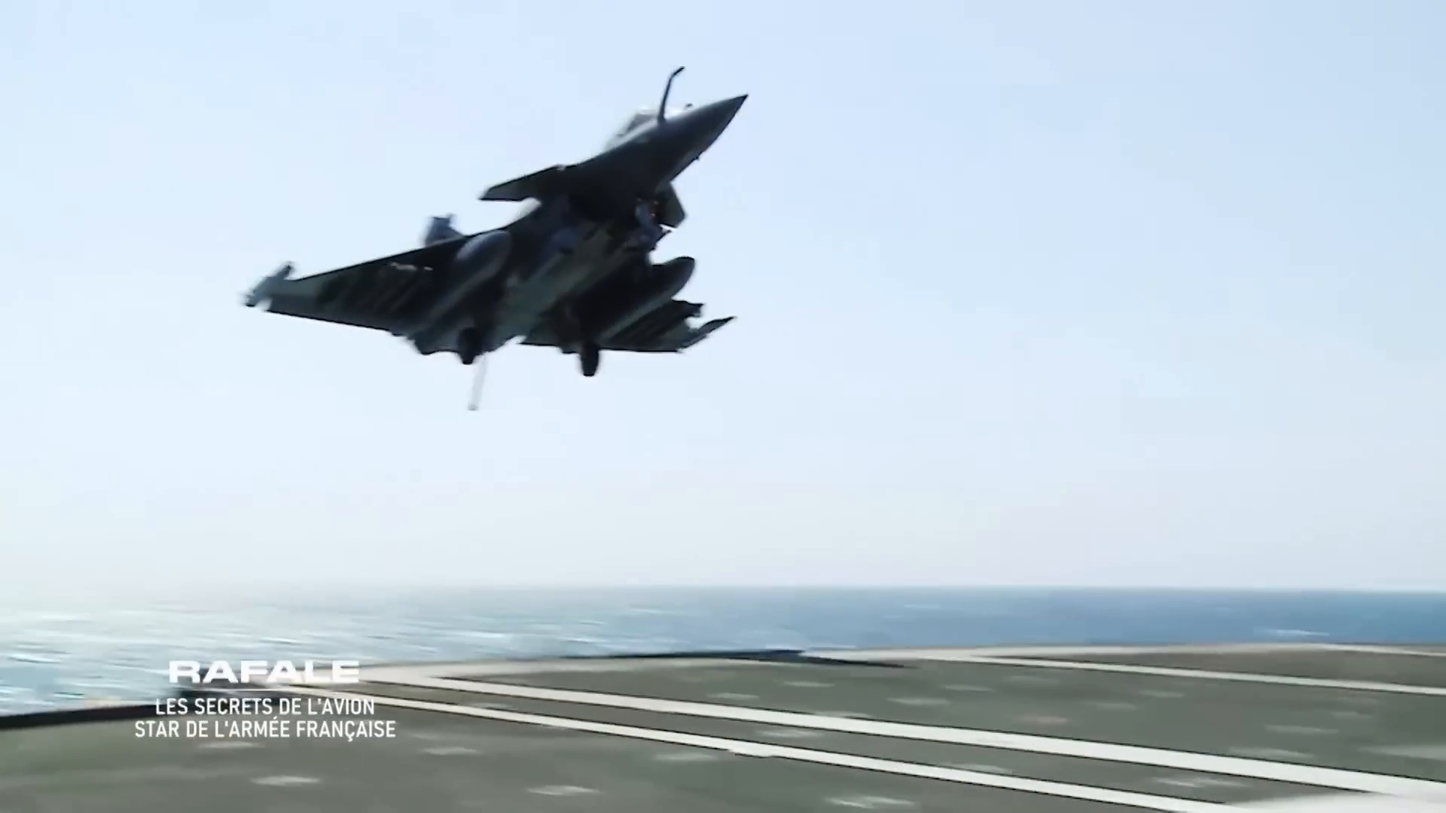Rafale: (241, 60, 751, 377)
